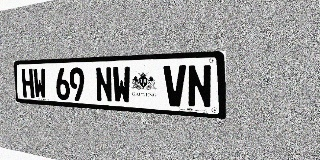6: (55, 68, 70, 100)
9: (69, 67, 85, 101)
H: (21, 68, 34, 98)
N: (187, 64, 212, 109), (95, 67, 113, 103)
V: (163, 65, 187, 107)
W: (112, 66, 131, 104), (33, 68, 47, 99)
